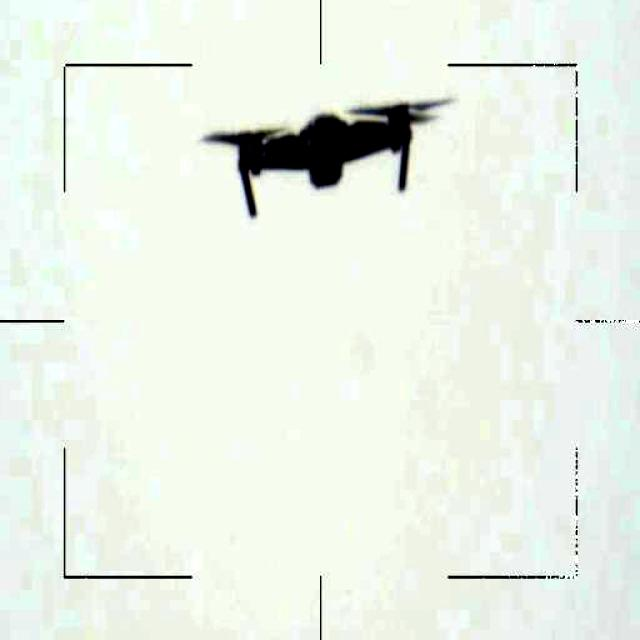bird: (189, 90, 442, 224)
